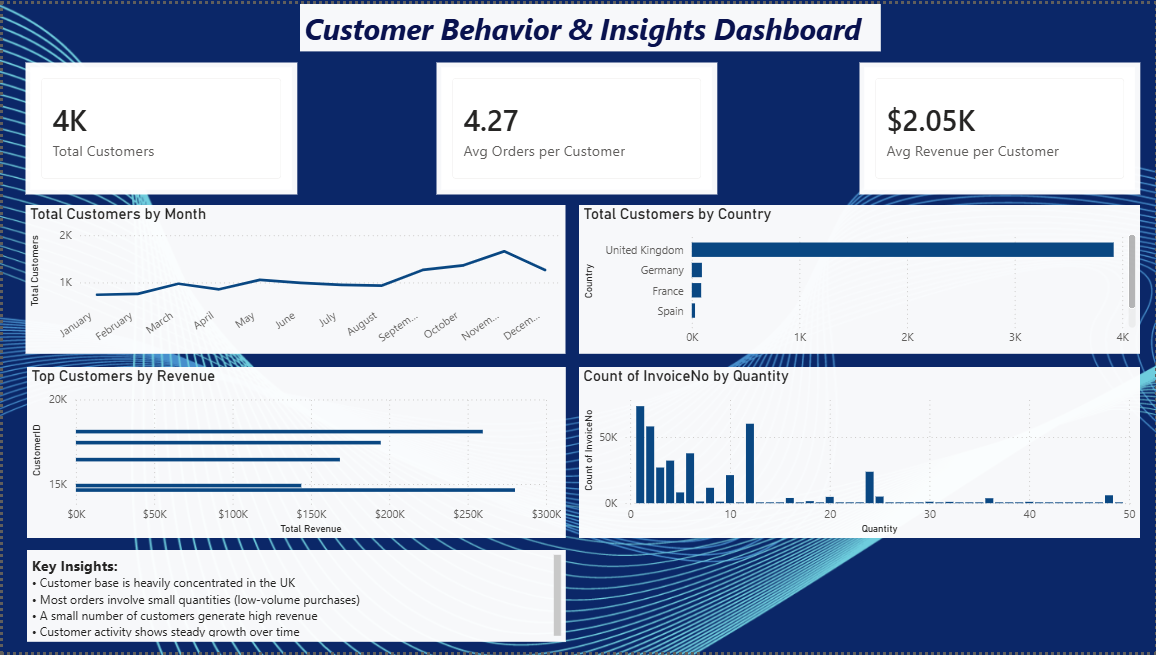

Layout of this report page (visuals, bound fields, positions):
{"tool":"powerbi","page":{"name":"Page 2","canvas":[1280,720],"ordinal":1},"visuals":[{"type":"cardVisual","fields":{"Data":["Online Retail.Total Customers"]},"box":[25,65,301.7,146.7],"z":0},{"type":"cardVisual","fields":{"Data":["Online Retail.Avg Orders per Customer"]},"box":[481.7,65,311.7,146.7],"z":1000},{"type":"cardVisual","fields":{"Data":["Online Retail.Avg Revenue per Customer"]},"box":[951.7,65,311.7,146.7],"z":2000},{"type":"lineChart","fields":{"Category":["Online Retail.InvoiceDate.Variation.Date Hierarchy.Month"],"Y":["Online Retail.Total Customers"]},"box":[25,223.3,600,165],"z":3000},{"type":"barChart","fields":{"Category":["Online Retail.Country"],"Y":["Online Retail.Total Customers"]},"box":[640,223.3,623.3,165],"z":4000},{"type":"barChart","title":"Top Customers by Revenue","fields":{"Category":["Online Retail.CustomerID"],"Y":["Online Retail.Total Revenue"]},"box":[26.7,403.3,598.3,190],"z":5000},{"type":"textbox","box":[330.1,0,645.1,53],"z":6000},{"type":"textbox","box":[26.7,606.7,598.3,101.7],"z":7000},{"type":"clusteredColumnChart","fields":{"Category":["Online Retail.Quantity"],"Y":["CountNonNull(Online Retail.InvoiceNo)"]},"box":[640,403.3,623.3,190],"z":8000}]}

Visuals, with their boxes in screenshot pixels (x1, y1, x2, y2), scaled from the page's 1280x720 canvas onto the 1156x655 screenshot:
cardVisual - Online Retail.Total Customers: detection(23, 59, 295, 193)
cardVisual - Online Retail.Avg Orders per Customer: detection(435, 59, 717, 193)
cardVisual - Online Retail.Avg Revenue per Customer: detection(860, 59, 1141, 193)
lineChart - Online Retail.InvoiceDate.Variation.Date Hierarchy.Month x Online Retail.Total Customers: detection(23, 203, 564, 353)
barChart - Online Retail.Country x Online Retail.Total Customers: detection(578, 203, 1141, 353)
"Top Customers by Revenue" barChart: detection(24, 367, 564, 540)
textbox: detection(298, 0, 881, 48)
textbox: detection(24, 552, 564, 644)
clusteredColumnChart - Online Retail.Quantity x CountNonNull(Online Retail.InvoiceNo): detection(578, 367, 1141, 540)
